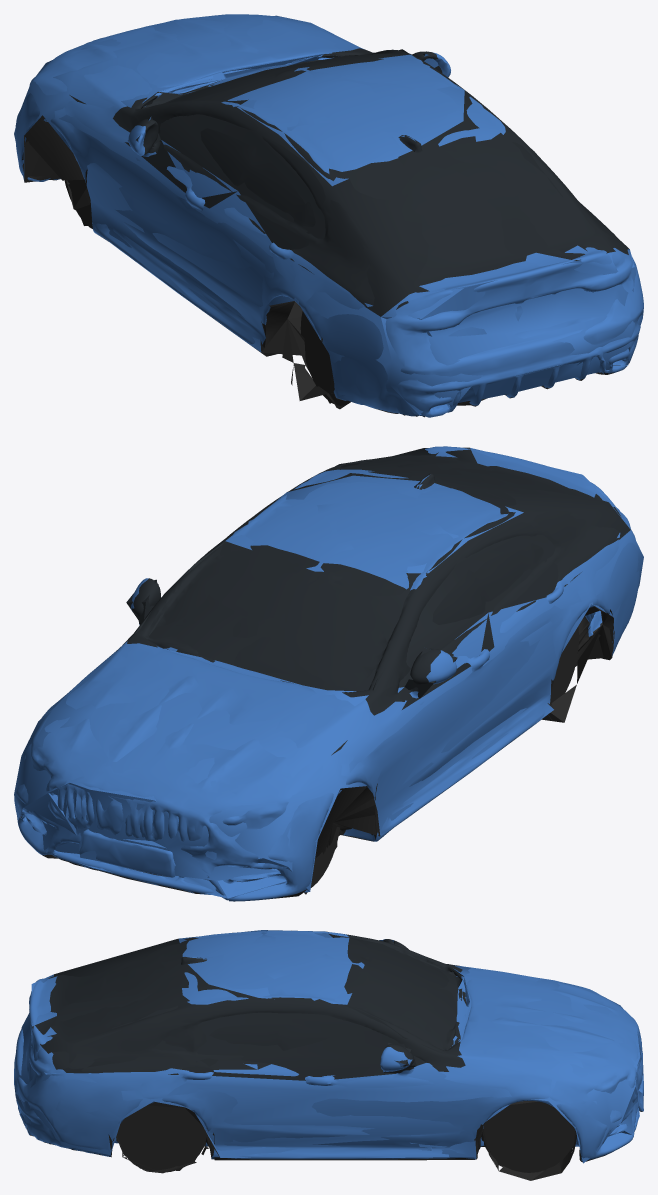
Rendered from mercedes-benz-cls-class.glb.
The picture shows the model from 3 angles, top to bottom: view 1: azimuth 30°, elevation 25°; view 2: azimuth 150°, elevation 25°; view 3: azimuth 270°, elevation 25°; orthographic projection. The views are drawn at different scales.
Parts seen in each view (by area): view 1: body, far; view 2: body, far; view 3: body, far.
Part boxes in pixels (x1,y1,x2,y2): body: (15, 14, 643, 417); far: (14, 15, 642, 414); body: (14, 446, 639, 901); far: (14, 447, 643, 898); body: (14, 930, 643, 1180); far: (14, 930, 643, 1170).
Size of the model in its own units: 2.25 by 1.54 by 5.02.
